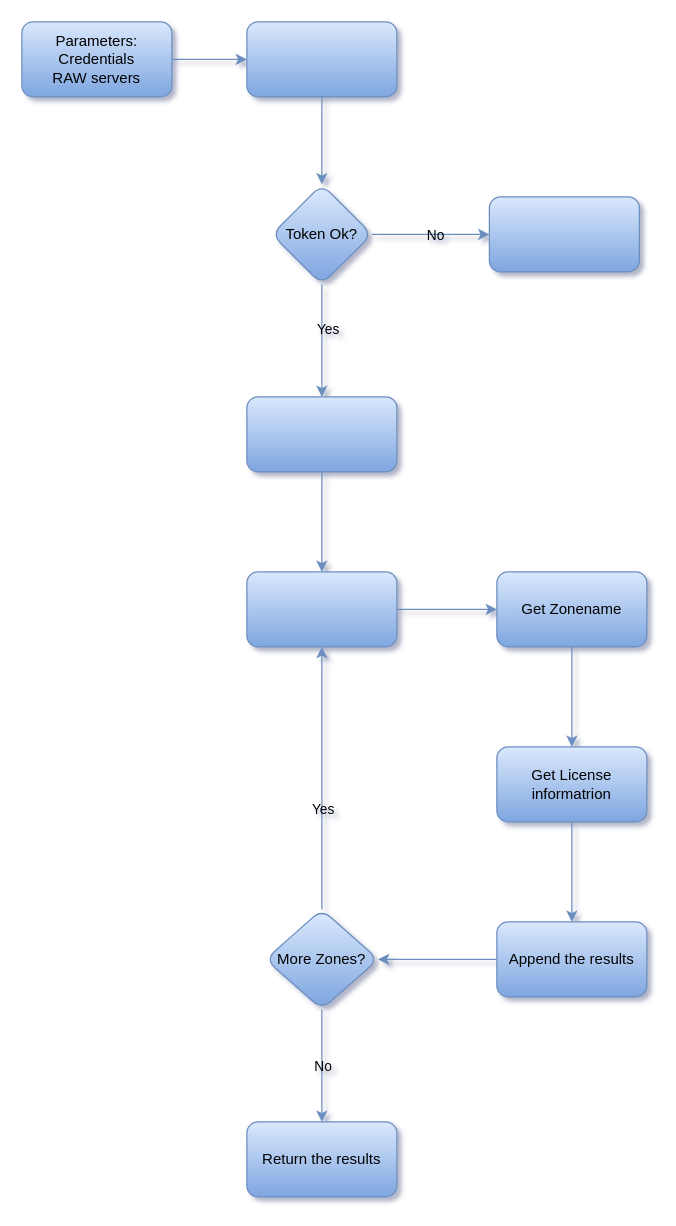
This 676x1226 diagram has some shape labels left out. Here are the shapes that lost their labels. From the top down, the centre of each, then its label:
the point at 321,59: Retrieving Bearer Access Token
the point at 563,234: Authentication Fault Error Exit
the point at 321,434: OData Parameters: Query Zones
the point at 321,609: Loop all the zones
